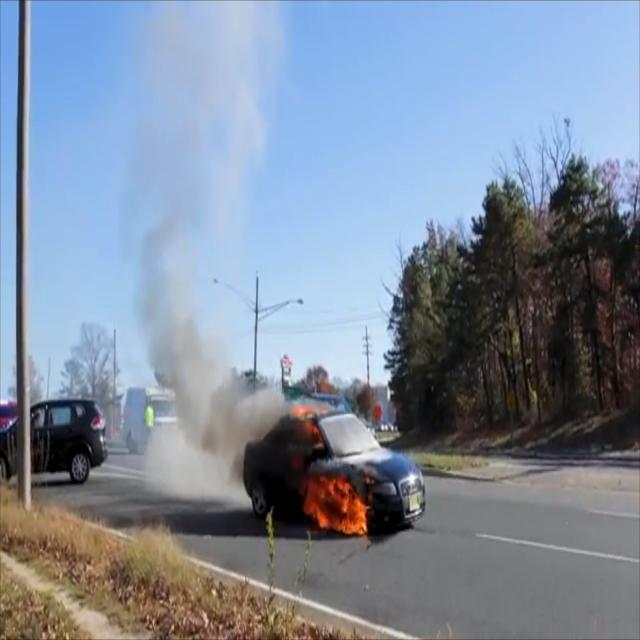fire: (292, 398, 368, 538)
